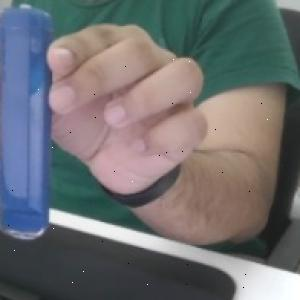Diamond-E-Ciggirate: (0, 1, 54, 242)
